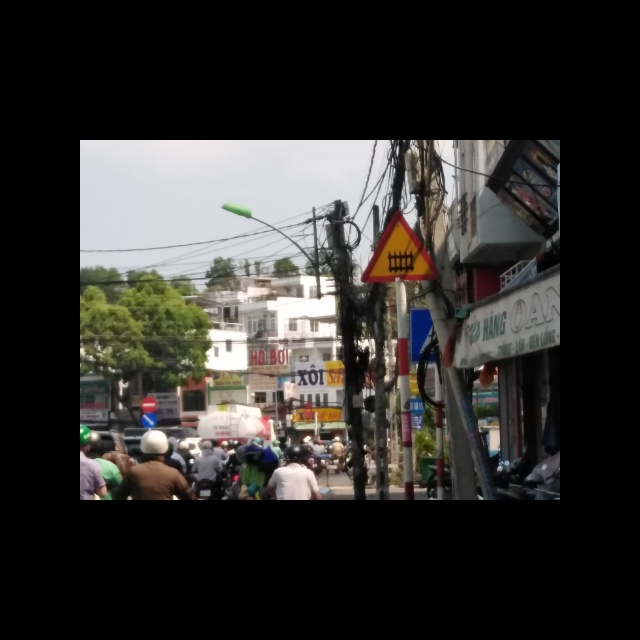Giao nhau với đường sắt có rào chắn: (359, 211, 438, 286)
